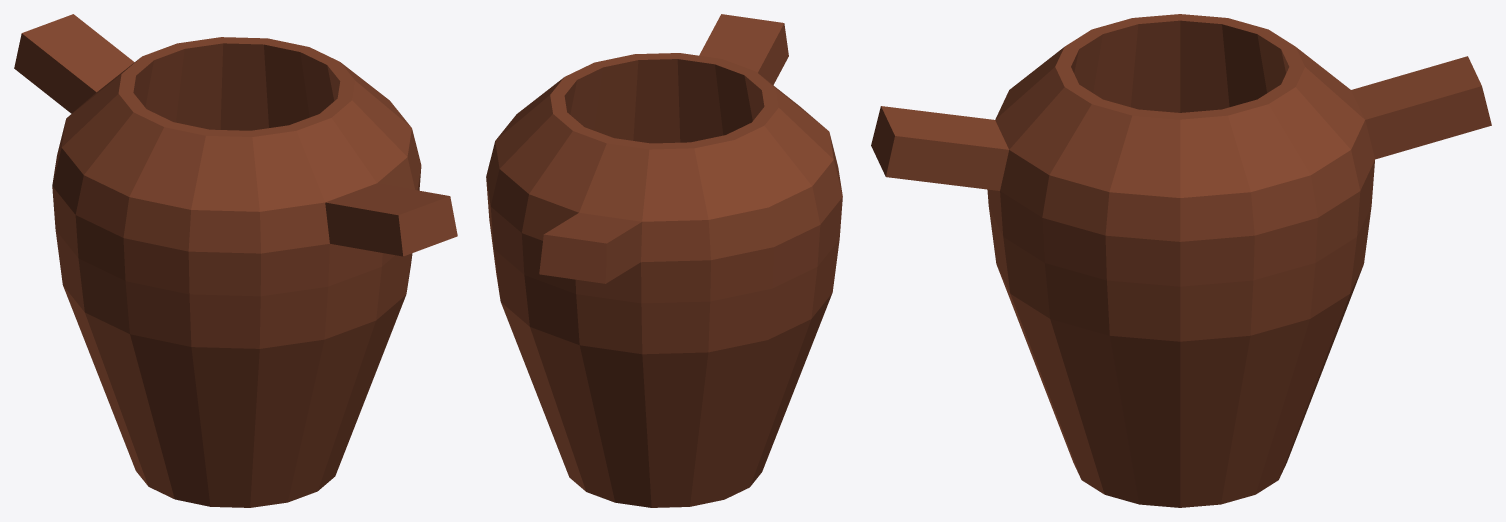
The model's file is Pot1WMat.glb.
The picture shows the model from 3 angles, left to right: view 1: azimuth 30°, elevation 25°; view 2: azimuth 150°, elevation 25°; view 3: azimuth 270°, elevation 25°; orthographic projection. The views are drawn at different scales.
Visible parts, largest first — view 1: Pot1; view 2: Pot1; view 3: Pot1.
Part boxes in pixels (bbox=[...]): Pot1: bbox=[14, 14, 457, 507]; Pot1: bbox=[486, 14, 842, 507]; Pot1: bbox=[871, 14, 1491, 507].
Size of the model in its own units: 2.27 by 2.54 by 3.62.
